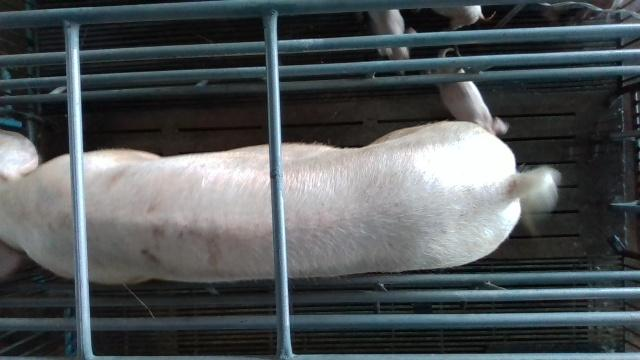piglet: (435, 46, 508, 137), (366, 9, 416, 75)
sow-stand-feed: (0, 120, 559, 283)
